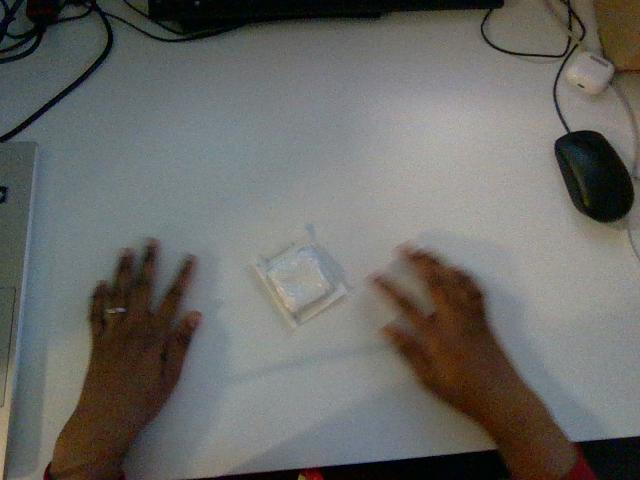gauze: (254, 241, 346, 327)
